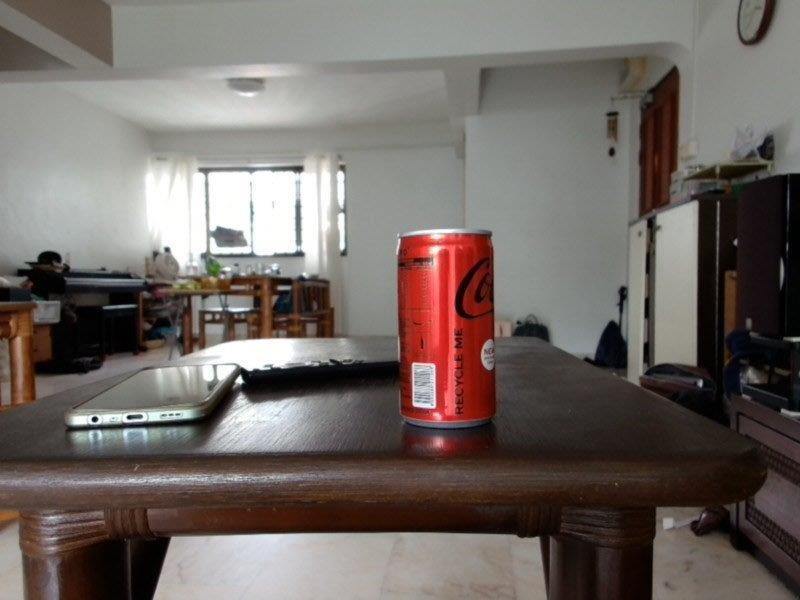Coke: (398, 227, 496, 431)
